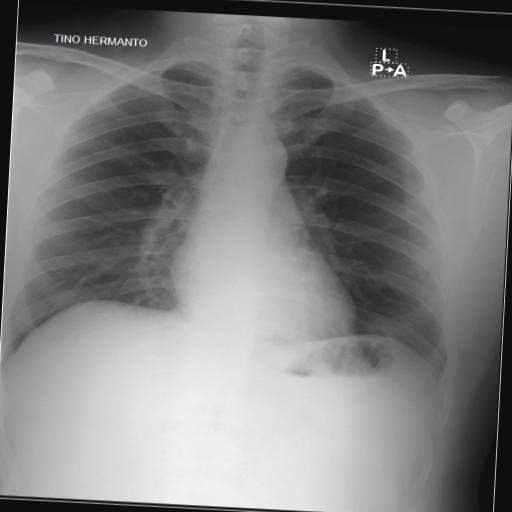normal: (2, 30, 474, 410)
